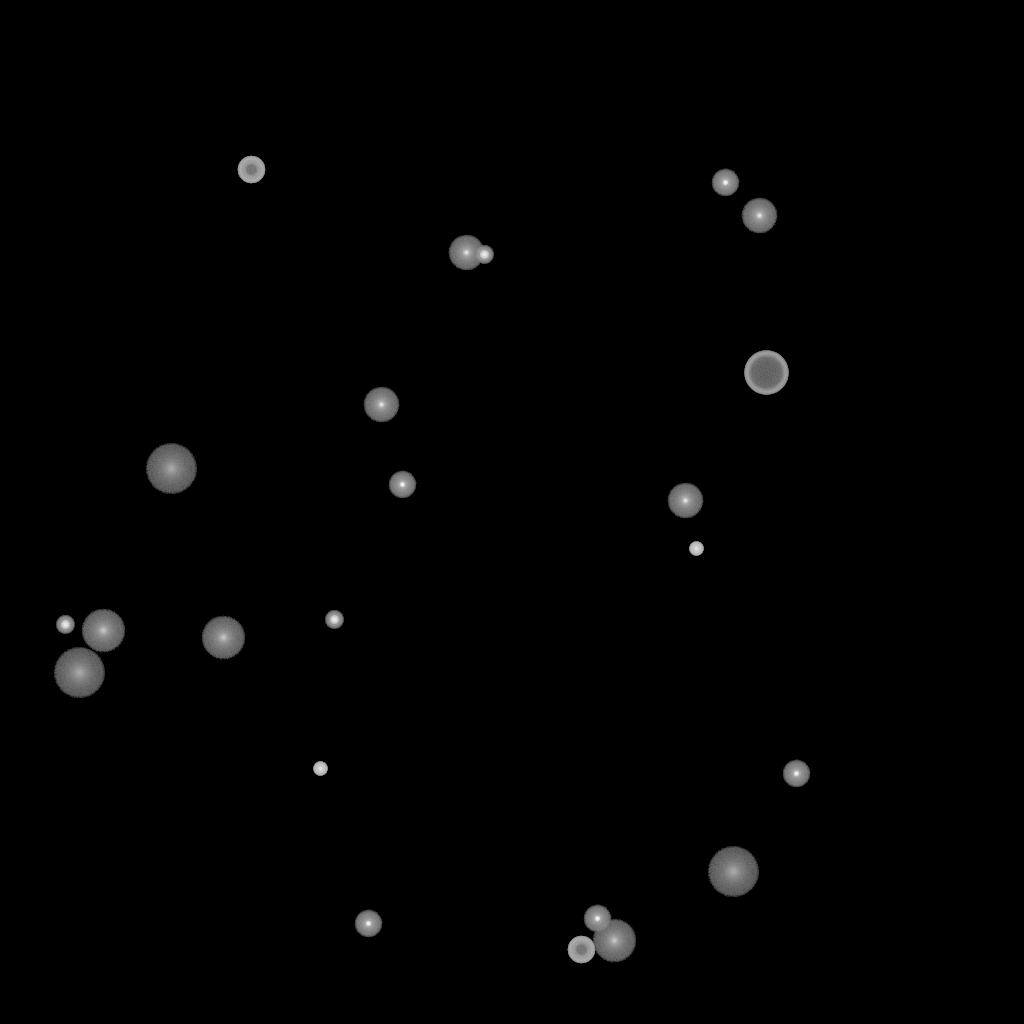depth:-10: (388, 471, 416, 499), (782, 760, 810, 788), (583, 905, 611, 933), (711, 169, 739, 197), (354, 910, 382, 938)
depth:-20: (325, 611, 343, 629), (475, 246, 493, 264), (56, 616, 74, 634)
depth:-30: (689, 542, 703, 556), (313, 762, 327, 776)
depth:-50: (237, 156, 265, 184), (567, 936, 595, 964)
depth:-70: (744, 351, 788, 395)
depth:0: (363, 387, 399, 423), (667, 483, 703, 519), (741, 198, 777, 234), (448, 235, 484, 271)
depth:10: (201, 616, 245, 660), (592, 919, 636, 963), (81, 609, 125, 653)
depth:20: (53, 648, 105, 698), (707, 847, 759, 897), (145, 444, 197, 494)
